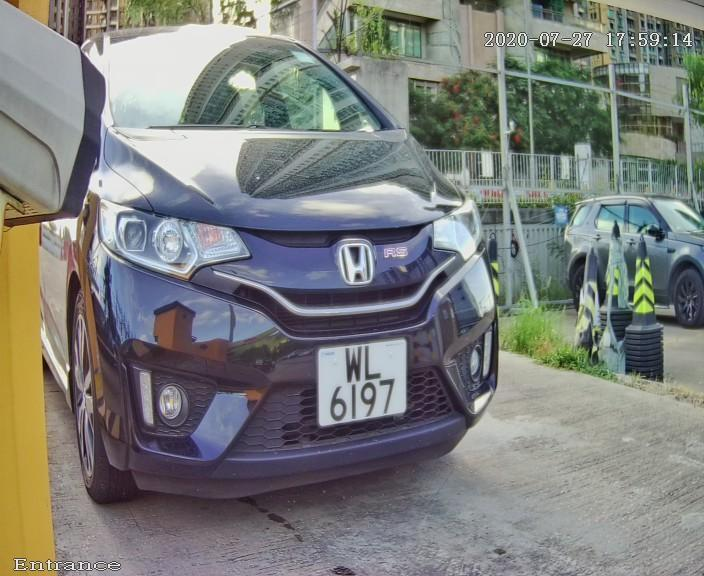privatecar: (32, 21, 544, 523)
